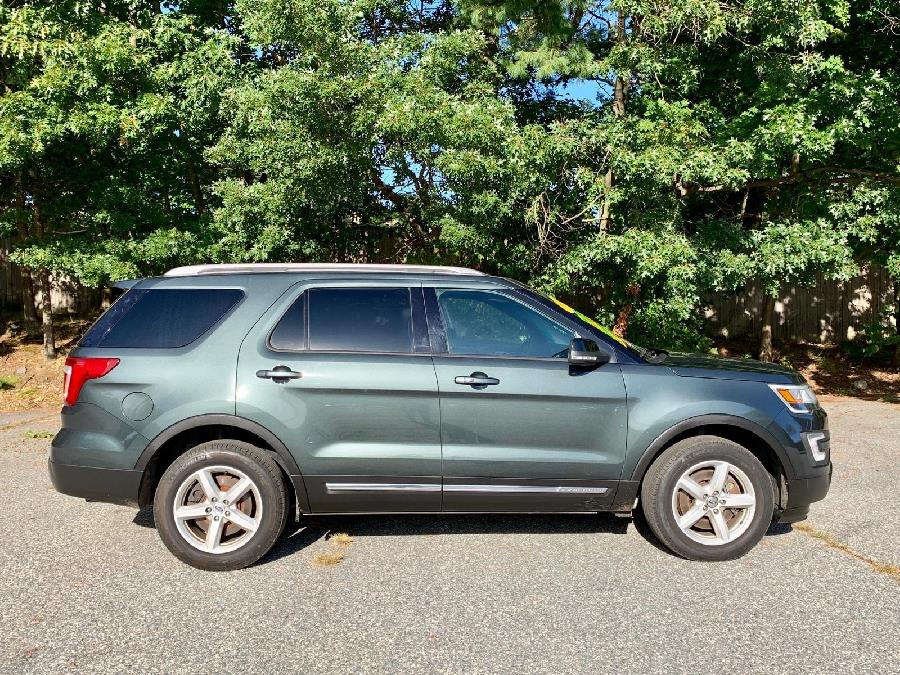Ford Explorer: (45, 256, 839, 586)
